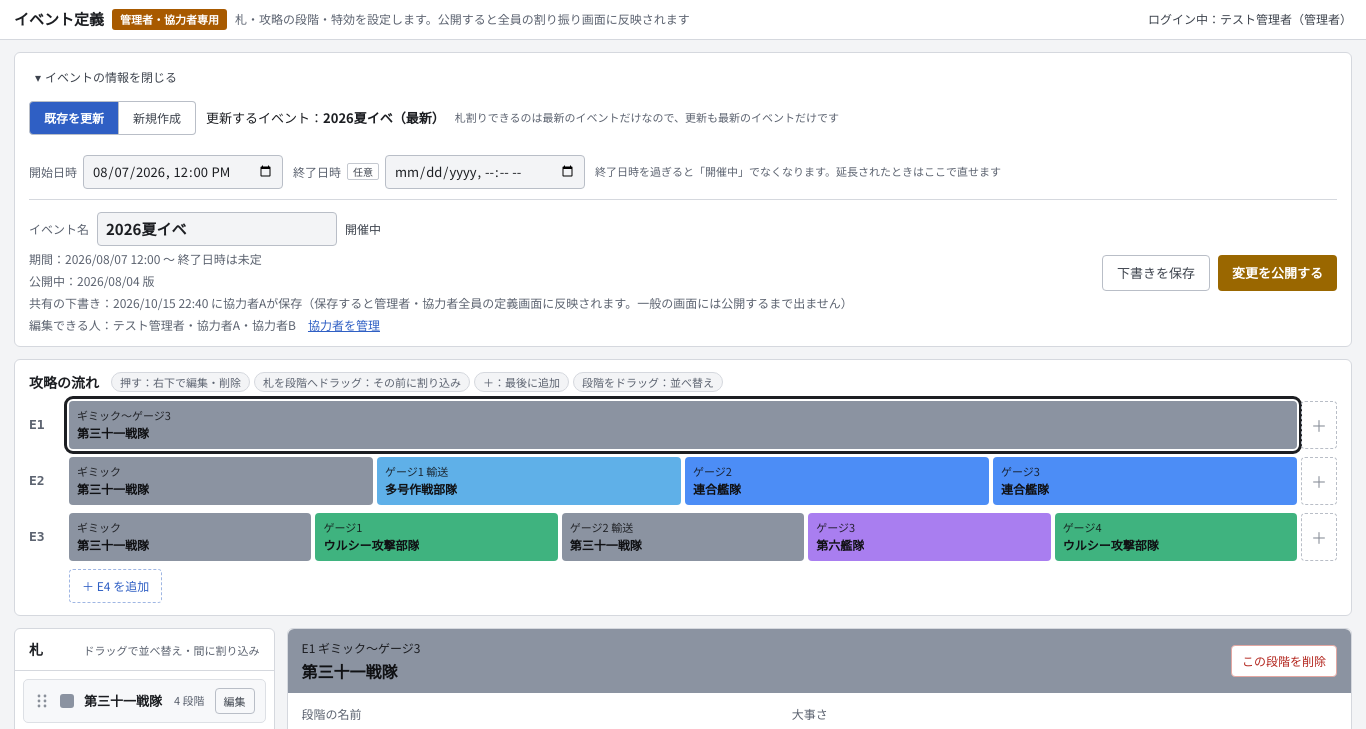
イベント定義の画面（PlanEditor）：特効グループの読みやすさと艦名の入力（UI／UX の指摘 中9・中10） › 艦名の候補（中10） › 候補から選んだ艦名（雪風）を Enter で足せる（今の足し方のまま）
Expected: the element "攻略の流れ" is shown, [14,358,1352,616]
Click the button "ゲージ3 連合艦隊": coordinates (1020, 470) [993,456,1297,504]
(page scrolled)
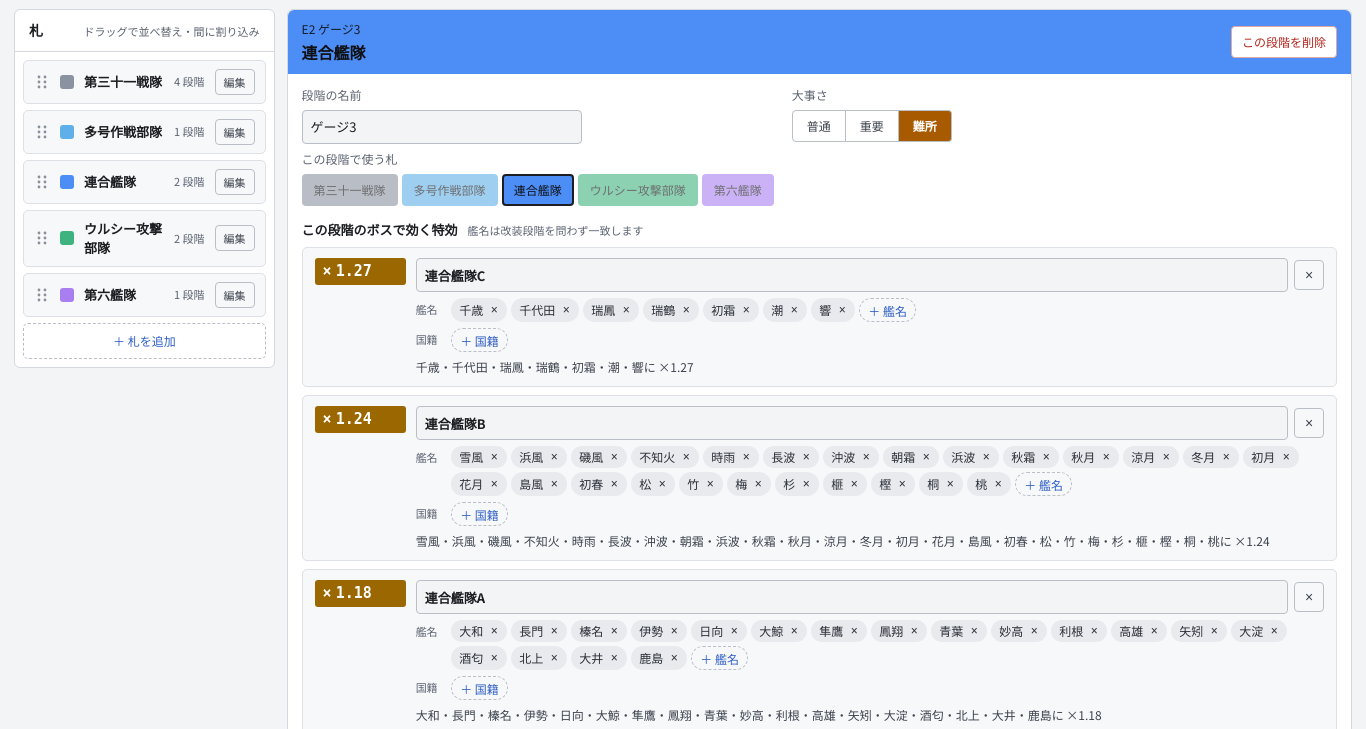
Click the 1st button "＋ 艦名": coordinates (888, 310) [859,298,916,322]
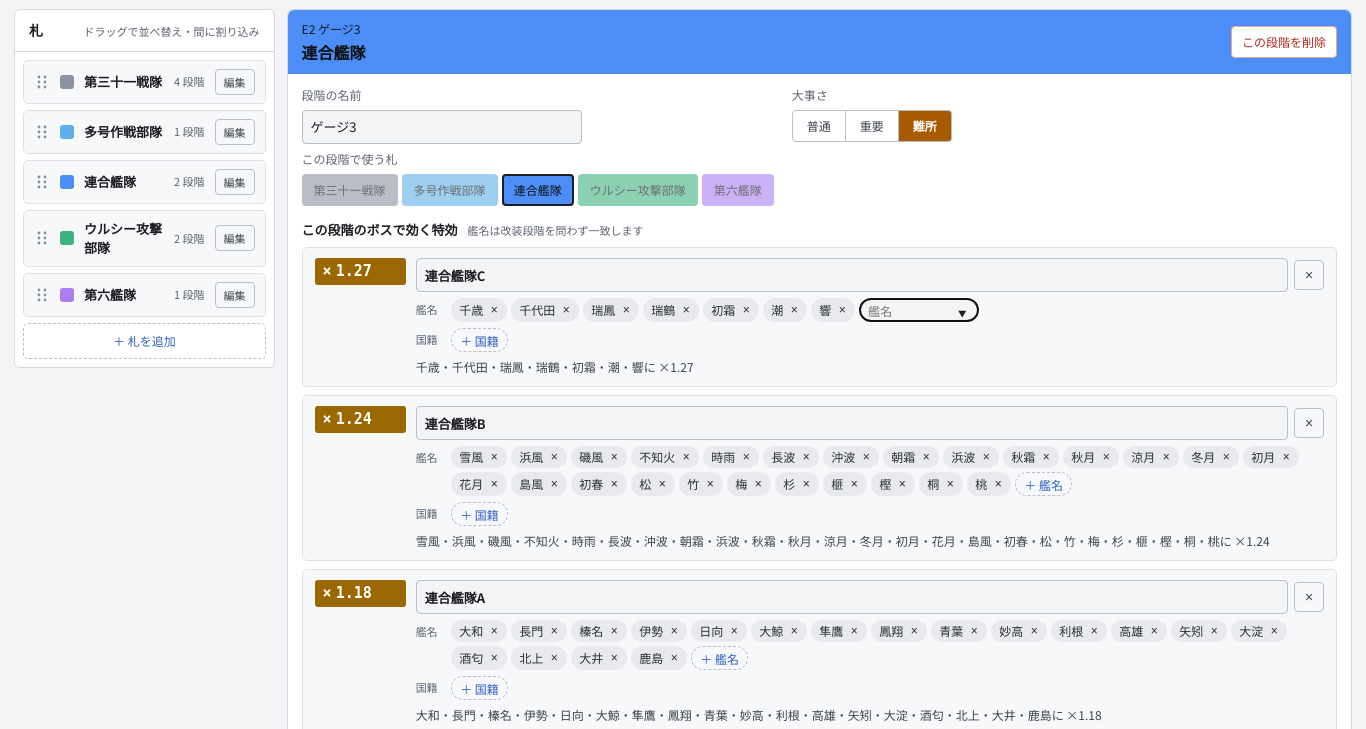
In the field named "追加する艦名": coordinates (919, 310) [859,298,979,322], type "雪風"
Then press Enter
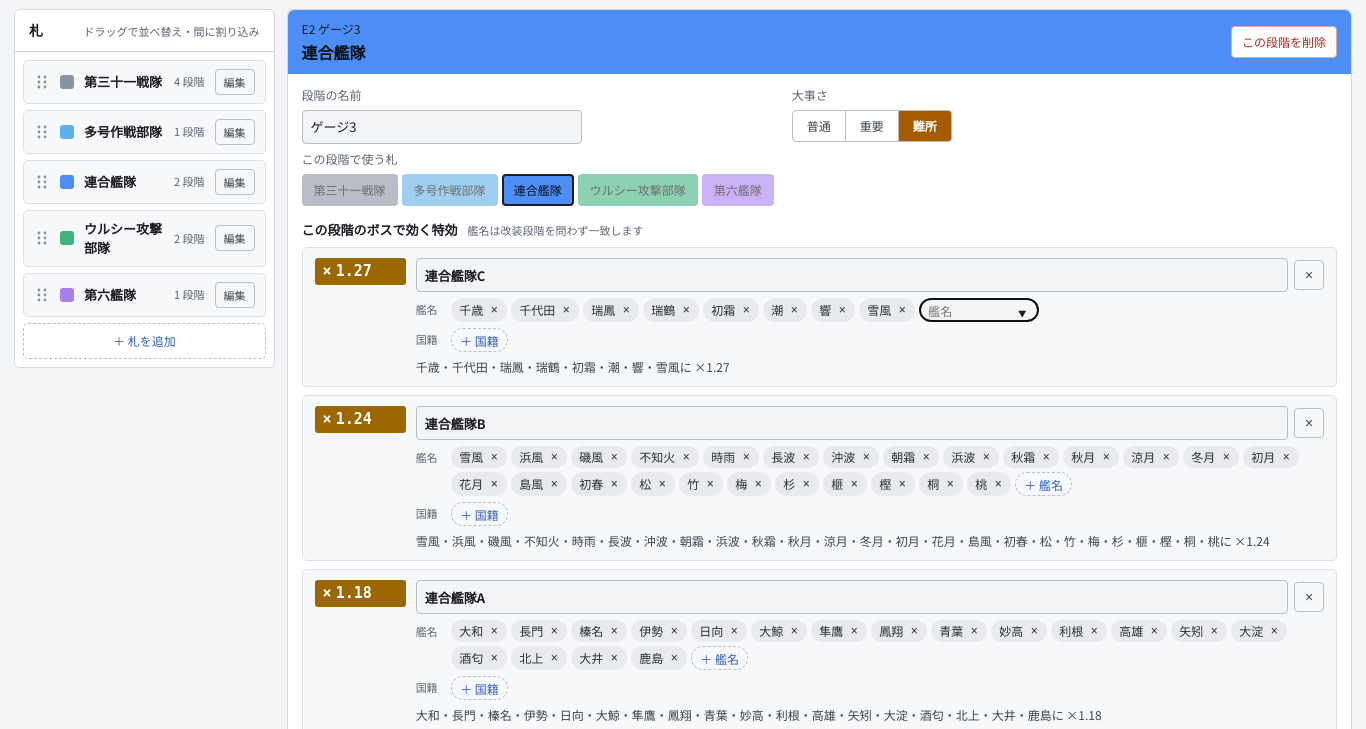
Expected: the button named "雪風を外す" is shown, [893,301,911,319]
